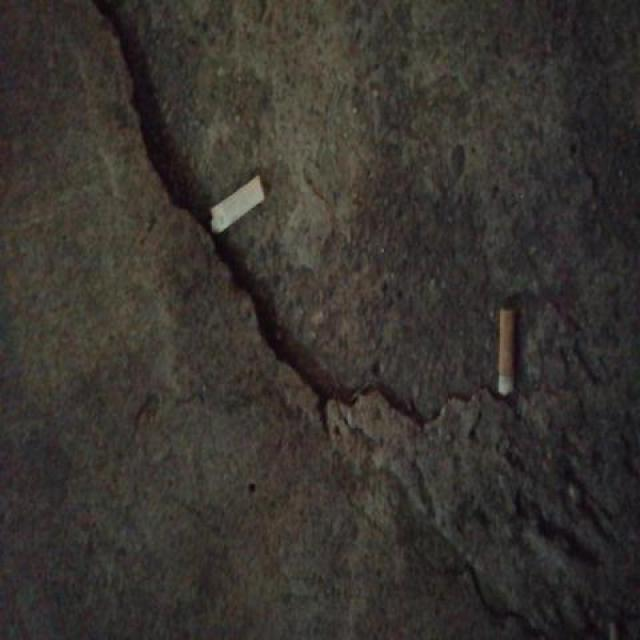non-organic waste: (205, 169, 270, 239), (496, 303, 520, 400)
